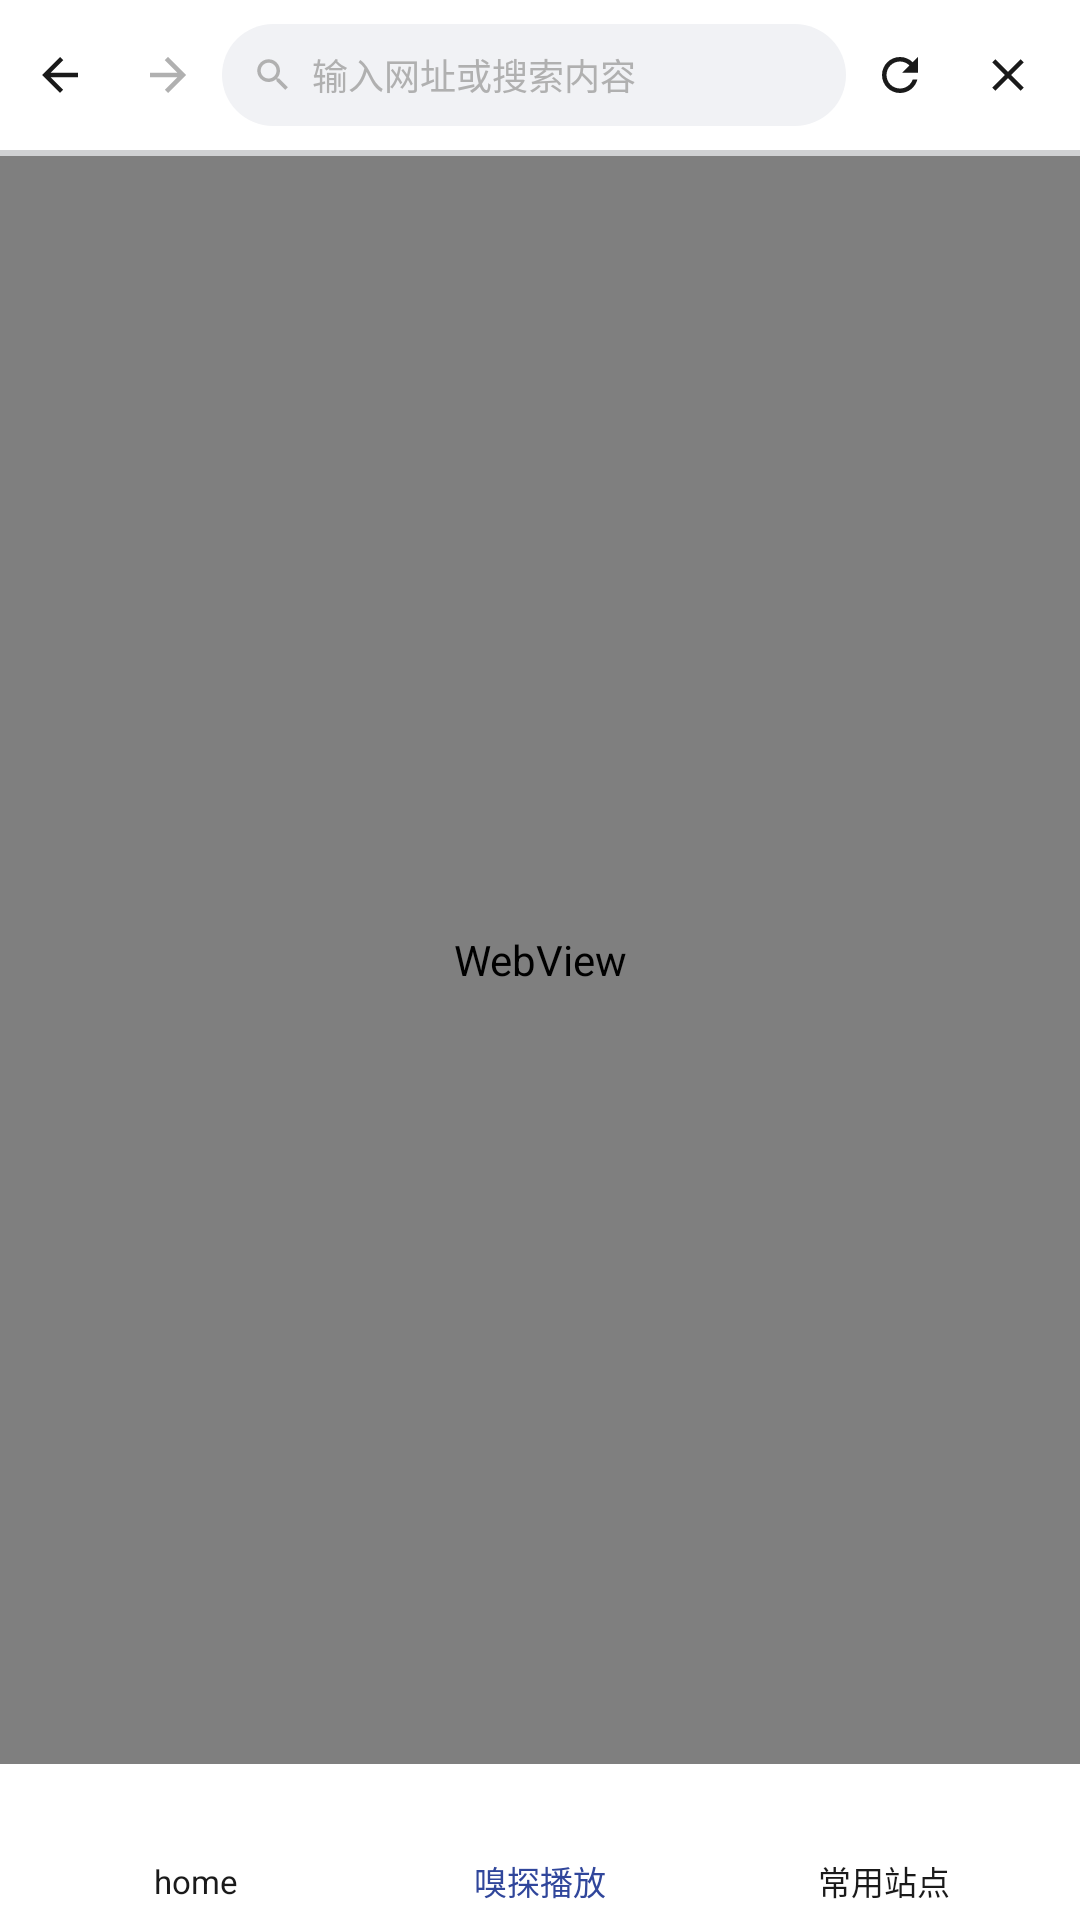

Screen size 1080×1920. Icon name, then its center in pixels as point (x, y):
back: point (60, 75)
close: point (1008, 75)
forward: point (168, 75)
refresh: point (900, 75)
search: point (272, 74)
